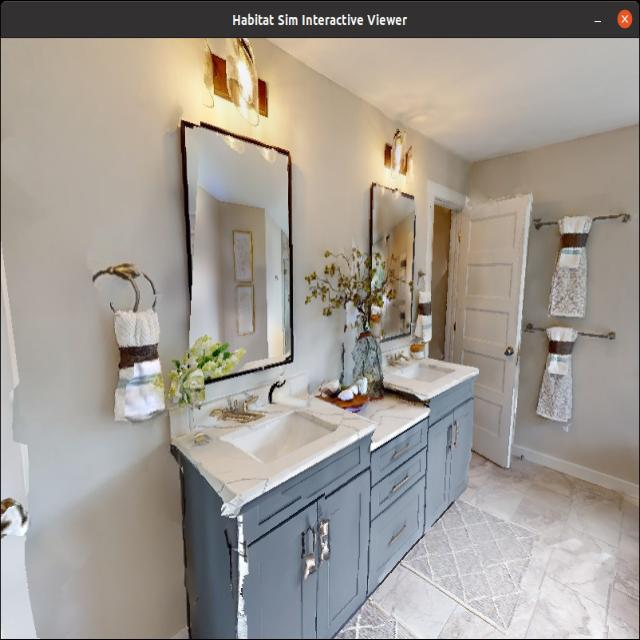door: (438, 185, 544, 473)
door-frame: (417, 181, 466, 376)
sink: (165, 373, 376, 640), (387, 325, 486, 537)
